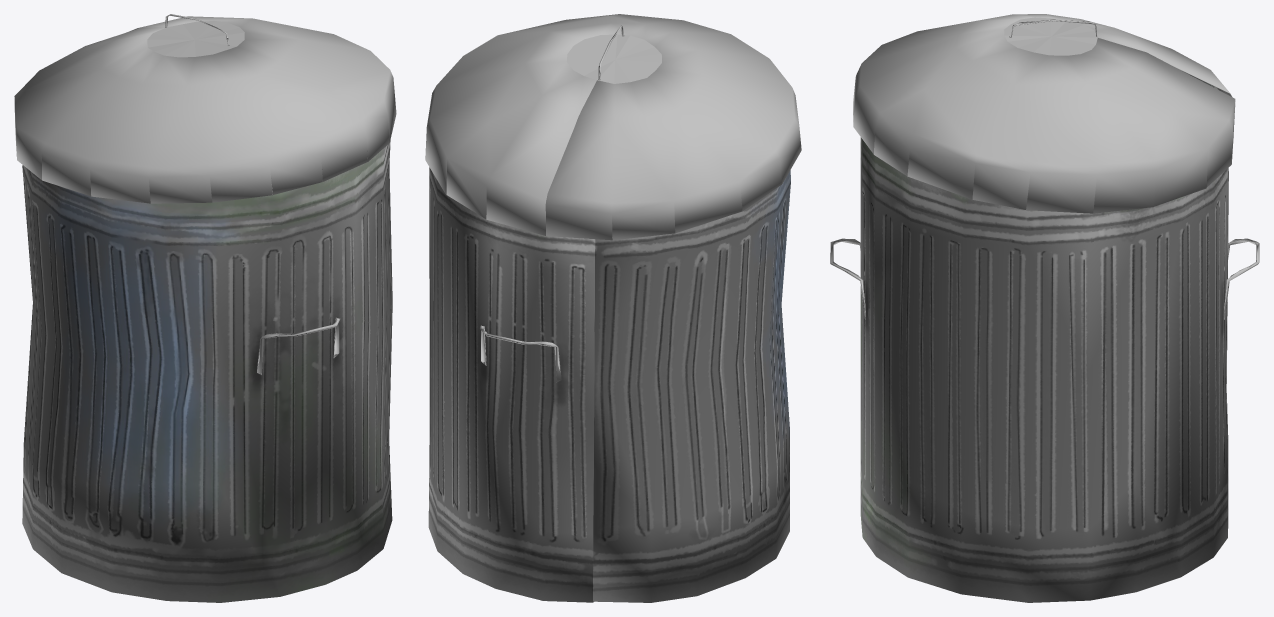
File: Trash_4,1.fbx
3 renders of one model, left to right at view 1: azimuth 30°, elevation 25°; view 2: azimuth 150°, elevation 25°; view 3: azimuth 270°, elevation 25°, orthographic. The views are drawn at different scales.
Parts seen in each view (by area): view 1: trash_004_LOD0; view 2: trash_004_LOD0; view 3: trash_004_LOD0.
Boxes of the visible parts, <box> form: trash_004_LOD0: <box>14,14,396,602</box>; trash_004_LOD0: <box>425,14,801,602</box>; trash_004_LOD0: <box>830,14,1259,602</box>.
Size of what is drawn, in the model's own units: 55.03 by 79.92 by 61.34.
